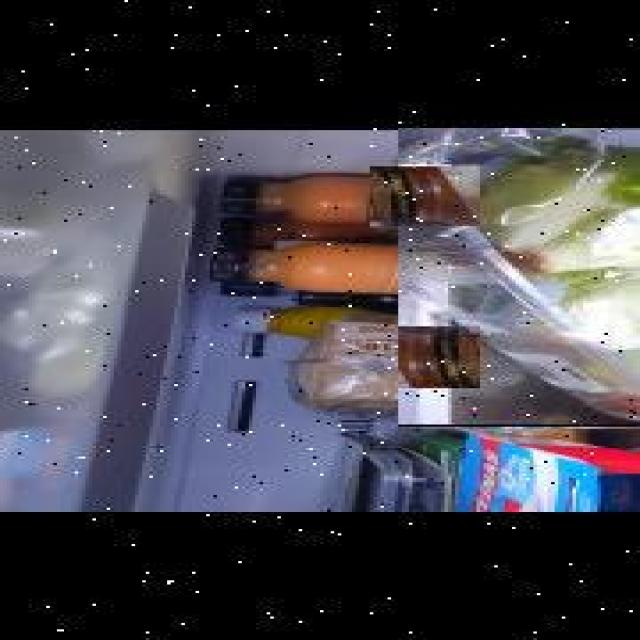bread: (286, 318, 460, 412)
salad: (398, 128, 640, 427)
tomato_sauce: (370, 164, 480, 226)
